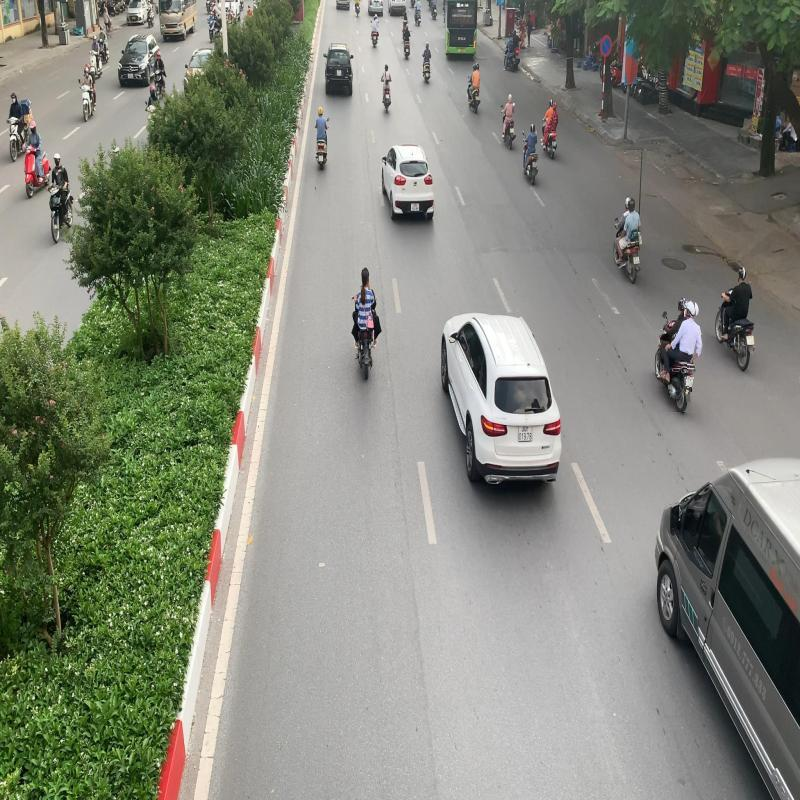helmet: (684, 299, 697, 318), (676, 296, 687, 312)
licenseplate: (684, 376, 694, 388)
motorcyclist: (652, 294, 704, 413)
